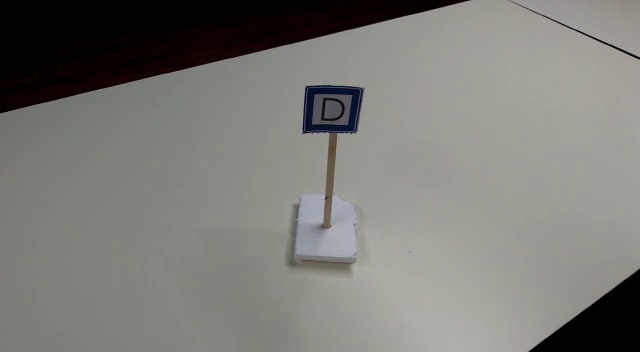durak: (298, 85, 363, 135)
